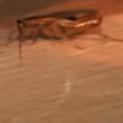cockroach: (14, 13, 104, 42)
